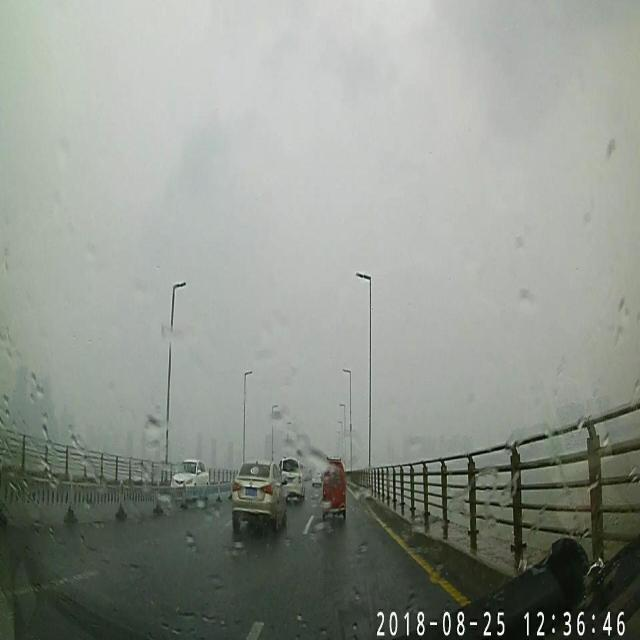car: (232, 462, 288, 533), (322, 454, 346, 518), (172, 460, 209, 501), (282, 455, 302, 502), (312, 467, 324, 488)
